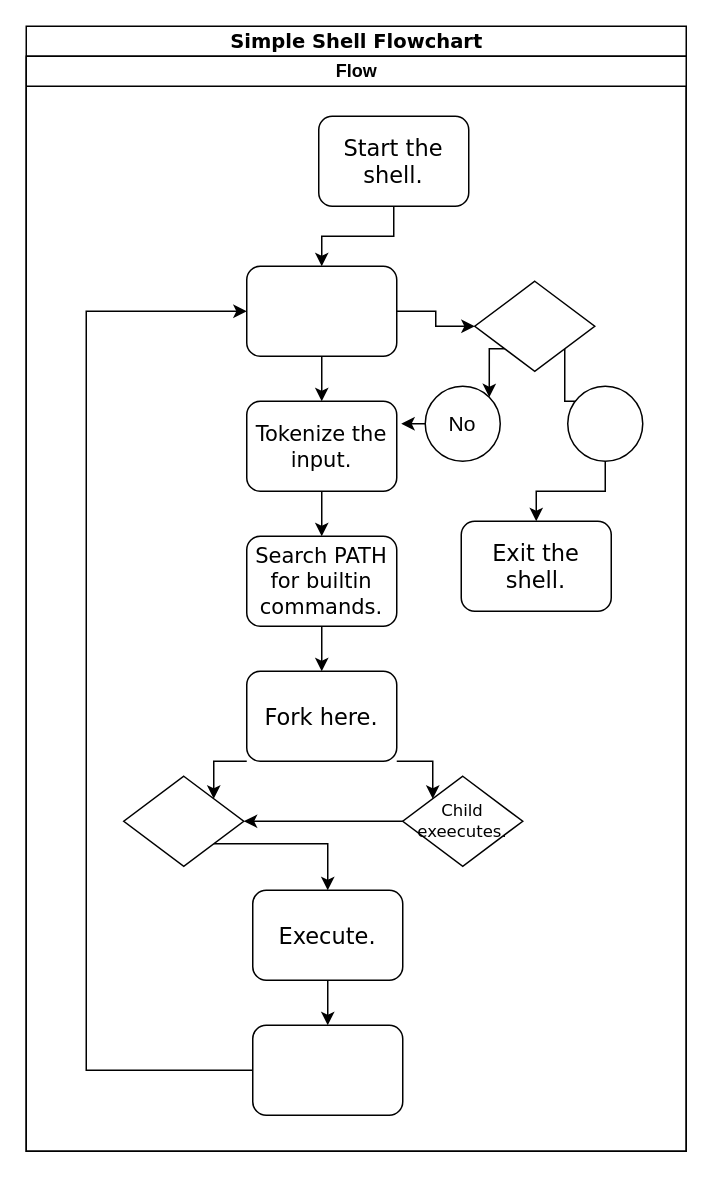
Some shapes in this 713 by 1178 pixel diagram are drawn without their labels. The centre of each missing label's shape, as x and y in pixels:
"Is it exit?" belongs at point 534,325.
"Parent Waits" belongs at point 183,820.
"Prompt the user for input." belongs at point 321,310.
"Return to beginning of loop." belongs at point 327,1069.
"Yes" belongs at point 604,423.
